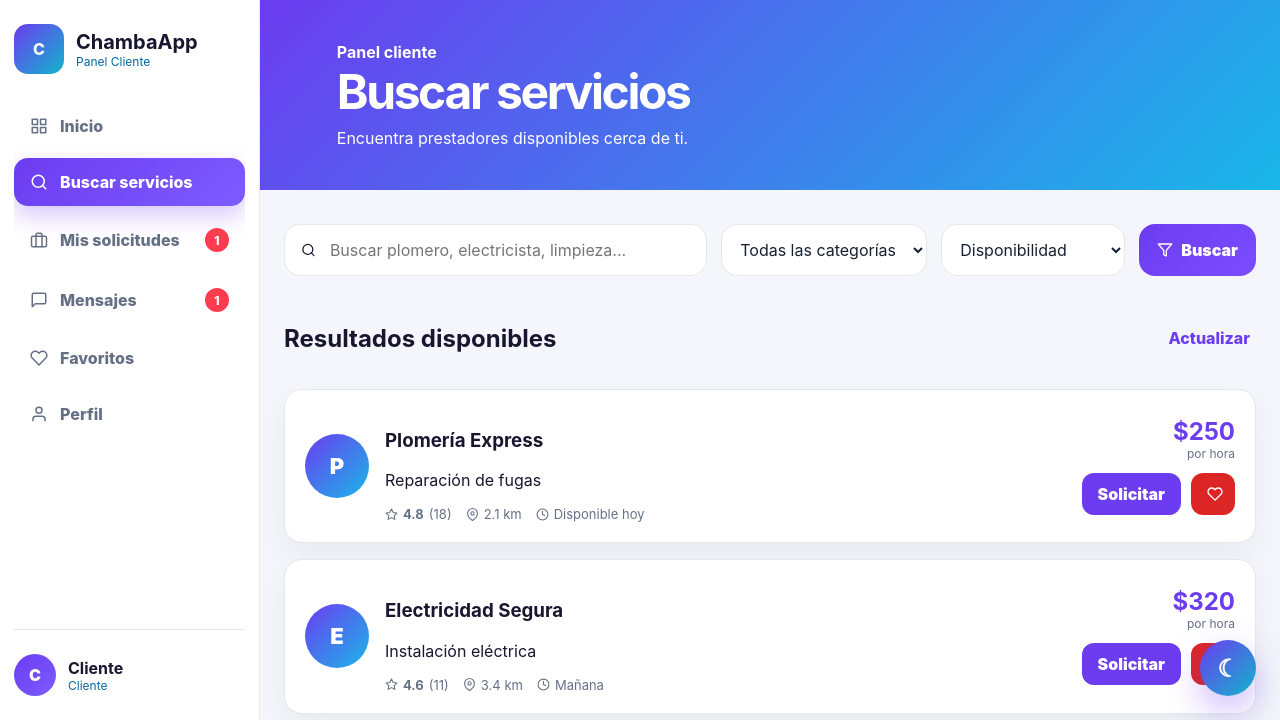
Test: Catálogo de Servicios › debe abrir el flujo de solicitud desde un servicio
Expected: the heading "Plomería Express" is shown, [385,428,543,452]
Click the button "Solicitar" below "$250" at (1132, 494), box [1082,473,1182,515]
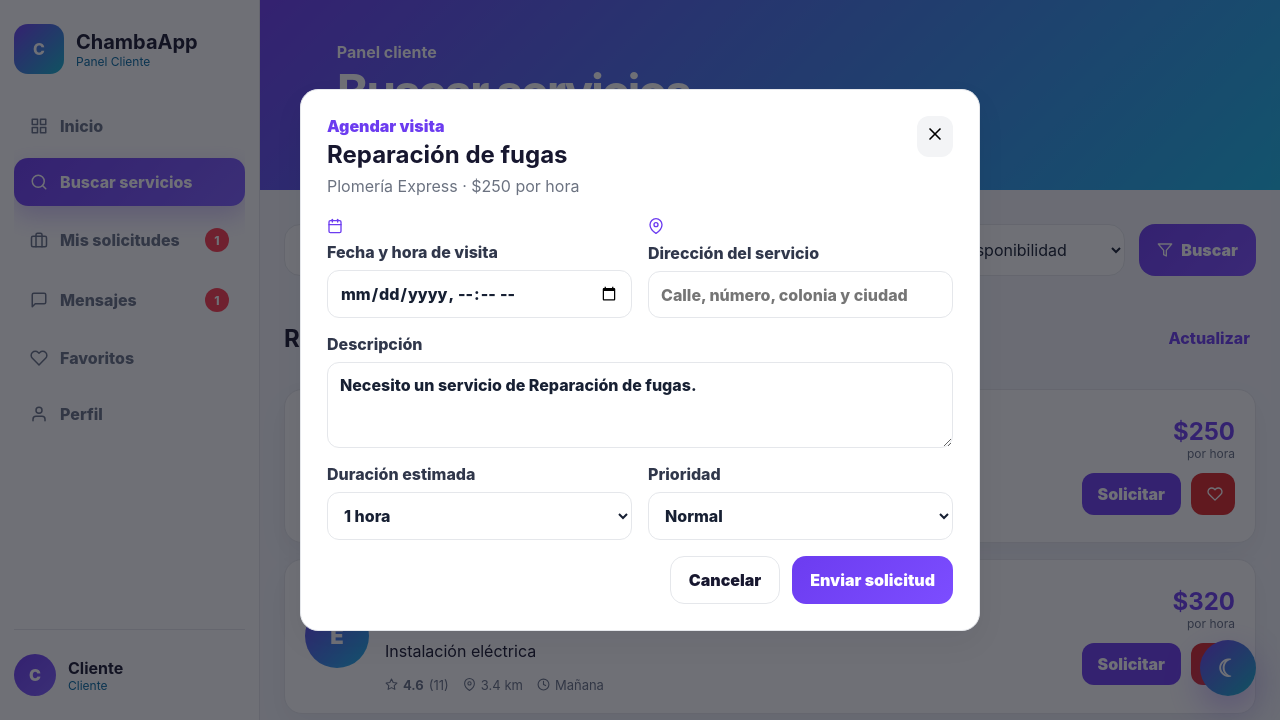
Expected: the text "Dirección del servicio" is shown, [648,218,953,318]
